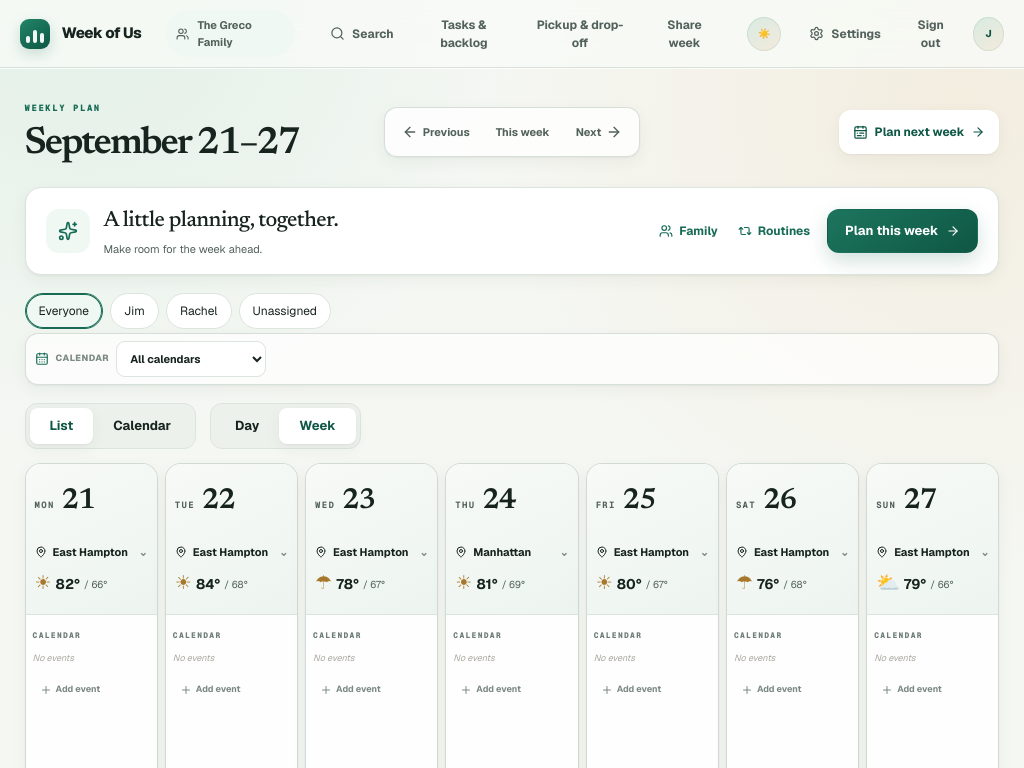
Test: planner search request ordering › keeps the latest query results and finishes loading while an older search is pending
Click the button "Search" at (362, 34), box [319,14,405,54]
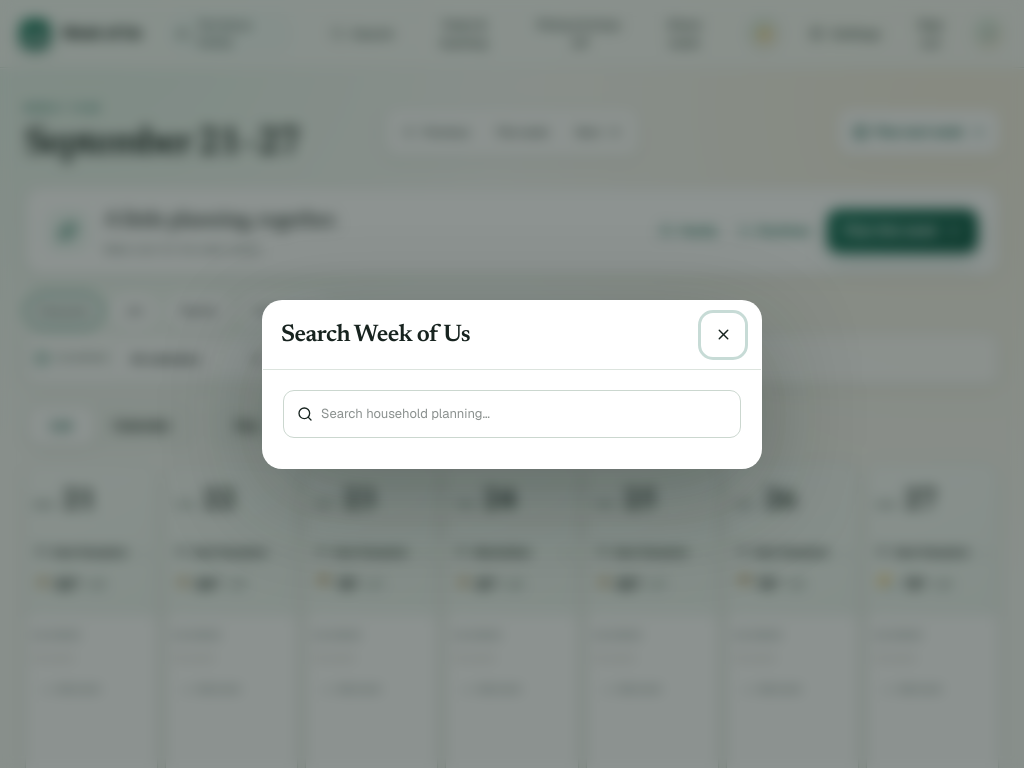
Type "camp" into the field with placeholder "Search household planning…" at (524, 414), box [321,404,727,423]
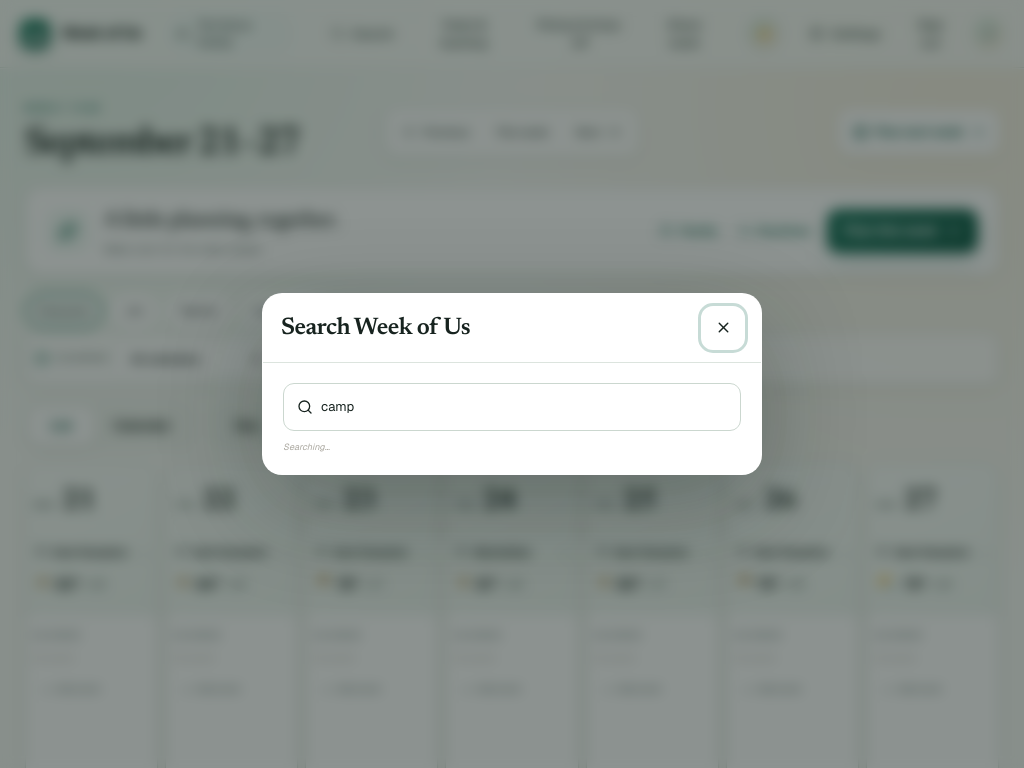
Replace the text in the field with placeholder "Search household planning…" with "groceries" at (524, 407), box [321,397,727,416]
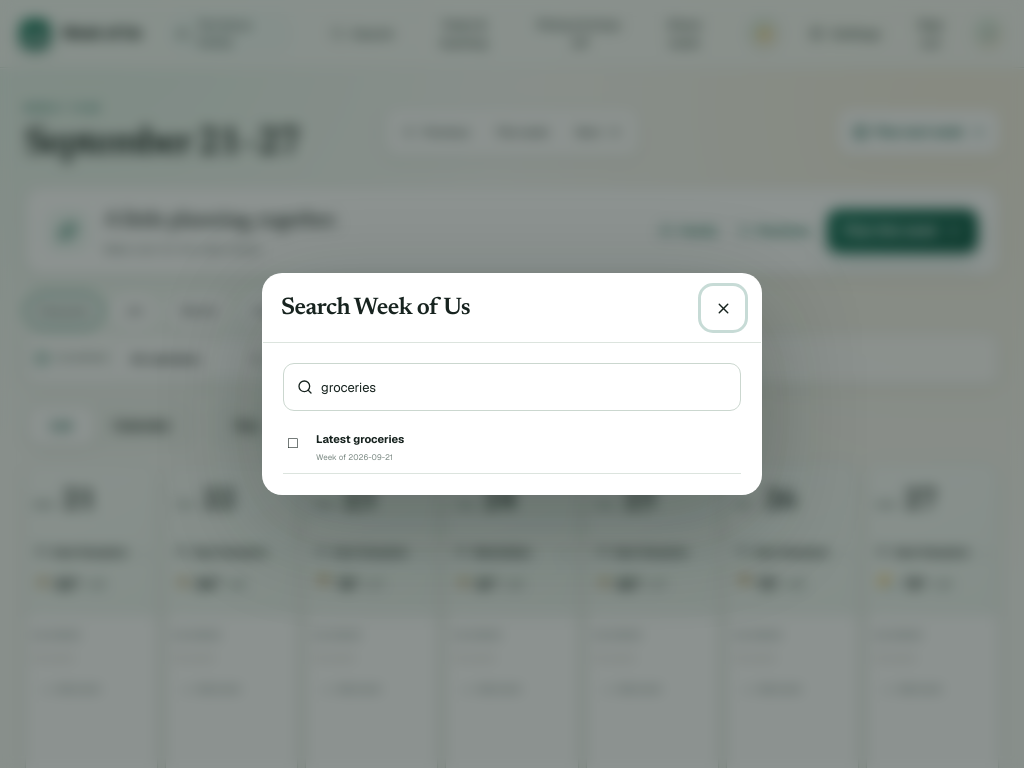
Expected: the text "Searching…" is gone
Expected: the link "□ Latest groceries Week of 2026-09-21" is shown, [283,421,741,474]
